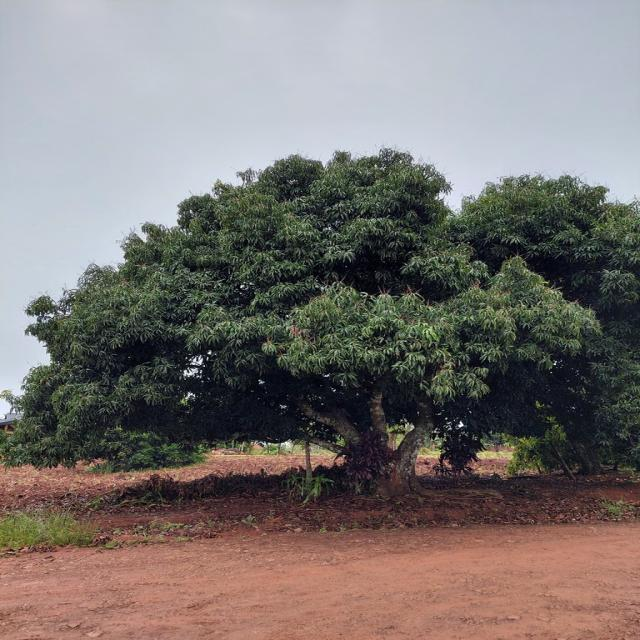Mango-Tree: (34, 148, 628, 484)
